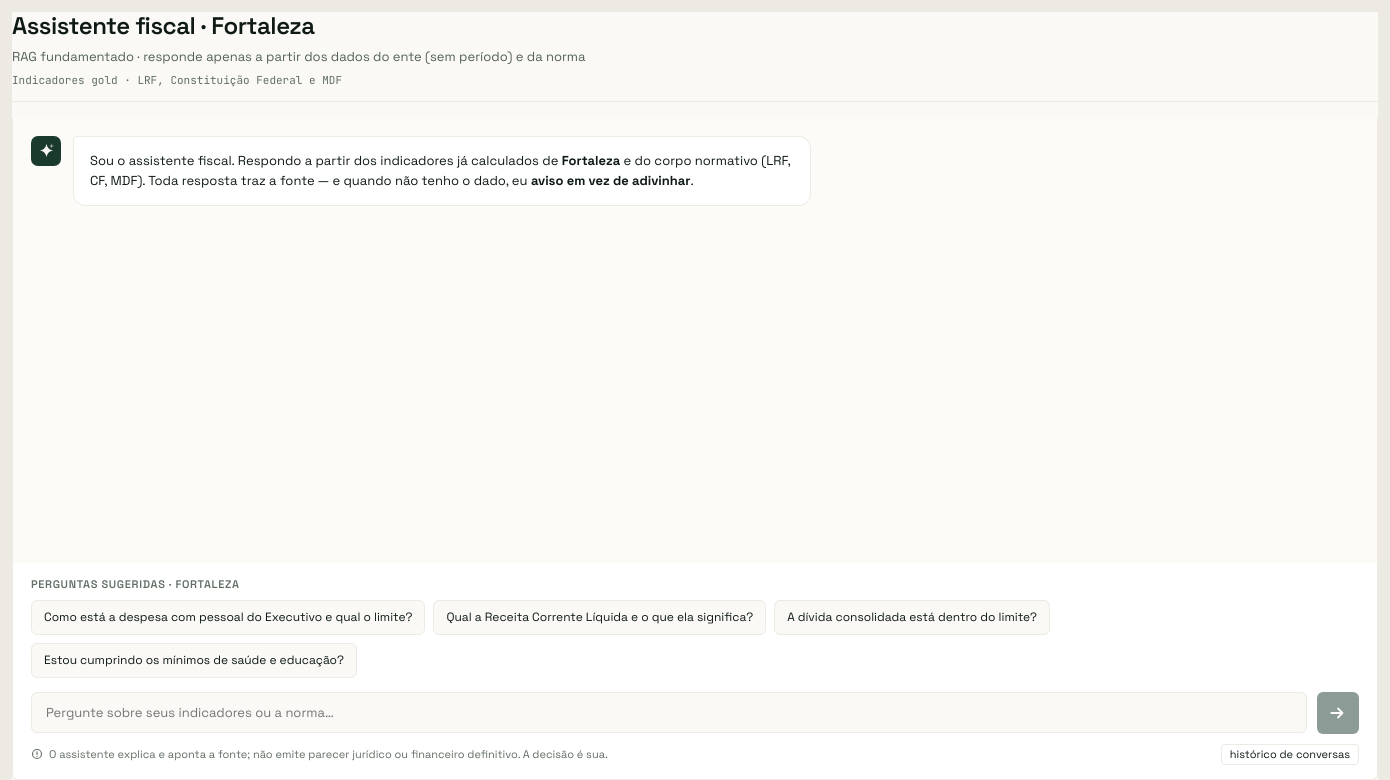
Test case: Assistente — dados incompletos e modo offline (Sprint B3) › replica o padrão de RelatoriosPage e mostra dados_incompletos sem omitir item
This screenshot has width=1390, height=780.
Click the button "Como está a despesa com pessoal do Executivo e qual o limite?": (228, 617) [31,600,426,635]
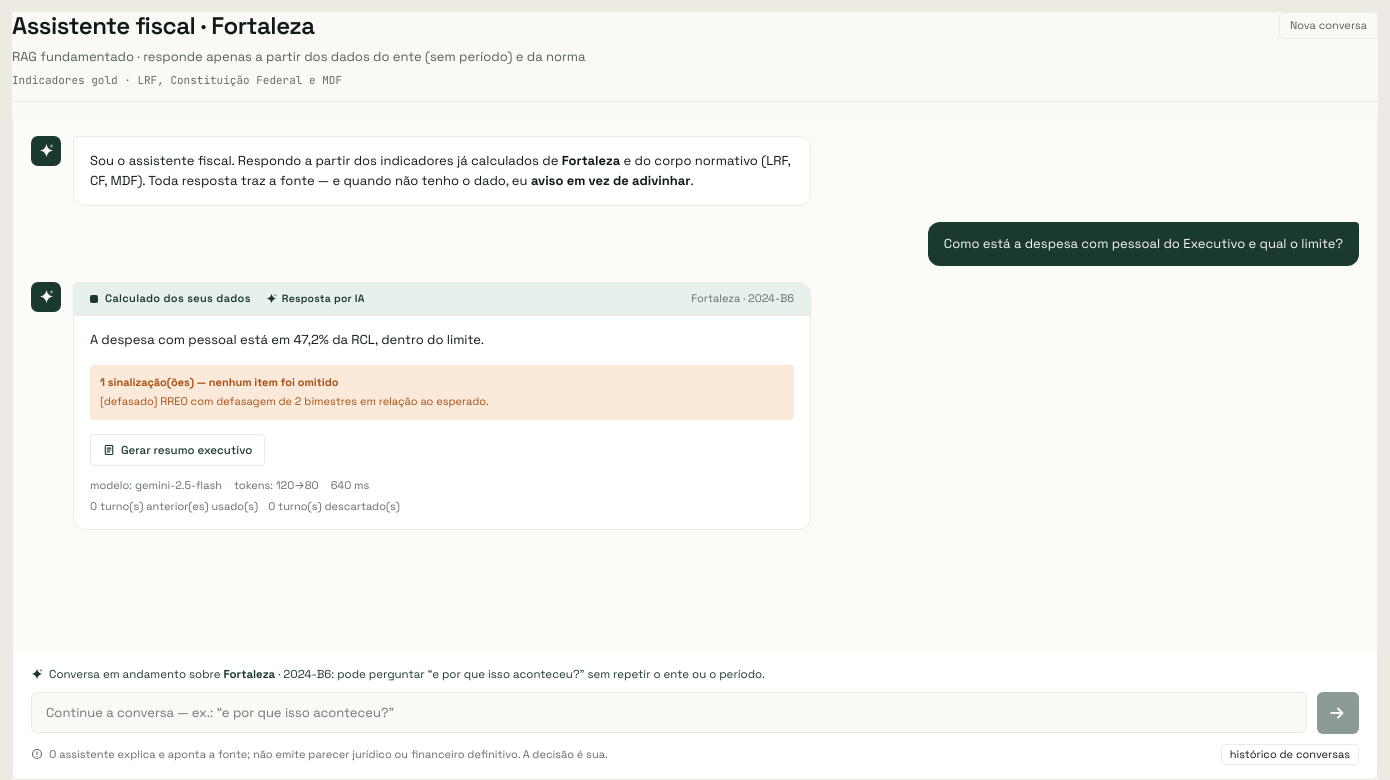
expect the text "1 sinalização(ões) — nenhum item foi omitido" is shown: met, box [100,375,338,389]
expect the text "RREO com defasagem de 2 bimestres em relação ao esperado." is shown: met, box [160,394,489,408]
